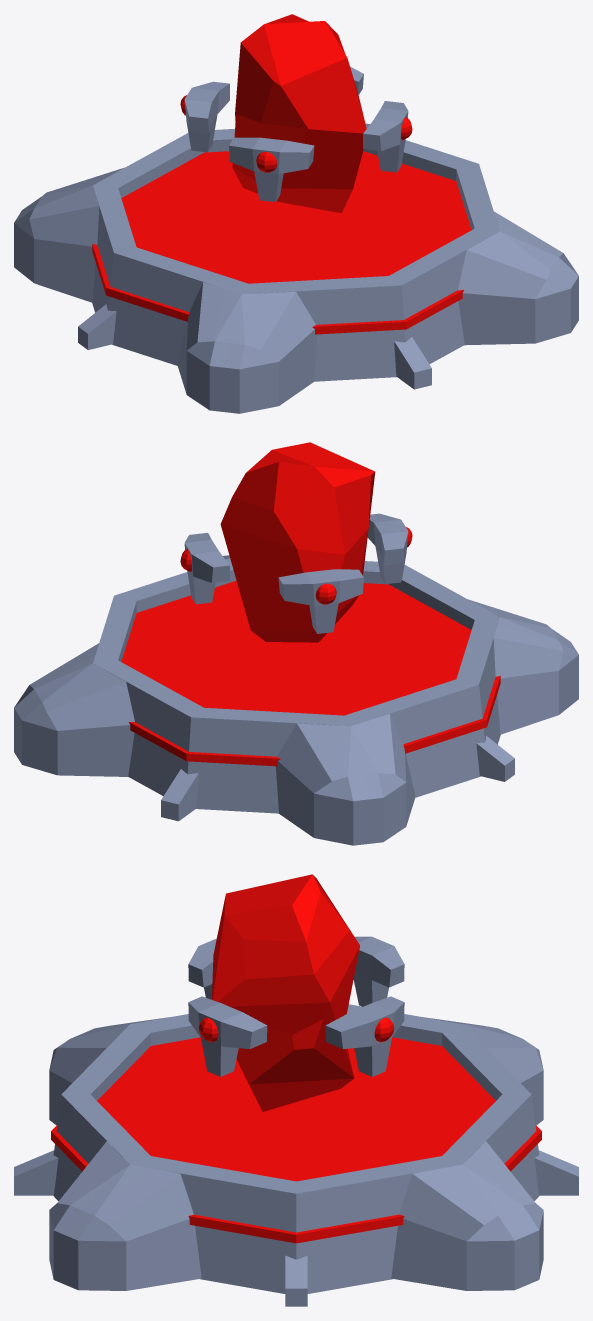
The model's file is nexus.fbx.
3 renders of one model, top to bottom at view 1: azimuth 30°, elevation 25°; view 2: azimuth 150°, elevation 25°; view 3: azimuth 270°, elevation 25°, orthographic. The views are drawn at different scales.
Parts seen in each view (by area): view 1: Detalier, Væg, Pøl, Crystal, Cylinder, Cube; view 2: Detalier, Væg, Pøl, Crystal, Cylinder, Cube; view 3: Detalier, Væg, Pøl, Crystal, Cylinder, Cube.
Part boxes in pixels (bbox=[...]): Detalier: bbox=[14, 66, 578, 413]; Væg: bbox=[92, 127, 499, 381]; Pøl: bbox=[121, 151, 471, 283]; Crystal: bbox=[232, 14, 366, 213]; Cylinder: bbox=[92, 244, 463, 334]; Cube: bbox=[180, 95, 412, 172]; Detalier: bbox=[14, 513, 578, 845]; Væg: bbox=[93, 558, 500, 813]; Pøl: bbox=[121, 580, 471, 715]; Crystal: bbox=[220, 442, 375, 642]; Cylinder: bbox=[129, 675, 500, 766]; Cube: bbox=[180, 527, 412, 604]; Detalier: bbox=[14, 936, 578, 1306]; Væg: bbox=[53, 1004, 539, 1293]; Pøl: bbox=[97, 1037, 495, 1181]; Crystal: bbox=[212, 874, 359, 1111]; Cylinder: bbox=[51, 1125, 541, 1243]; Cube: bbox=[198, 1017, 394, 1042].
Bounding box in the file's own units: 200 × 122 × 206.
